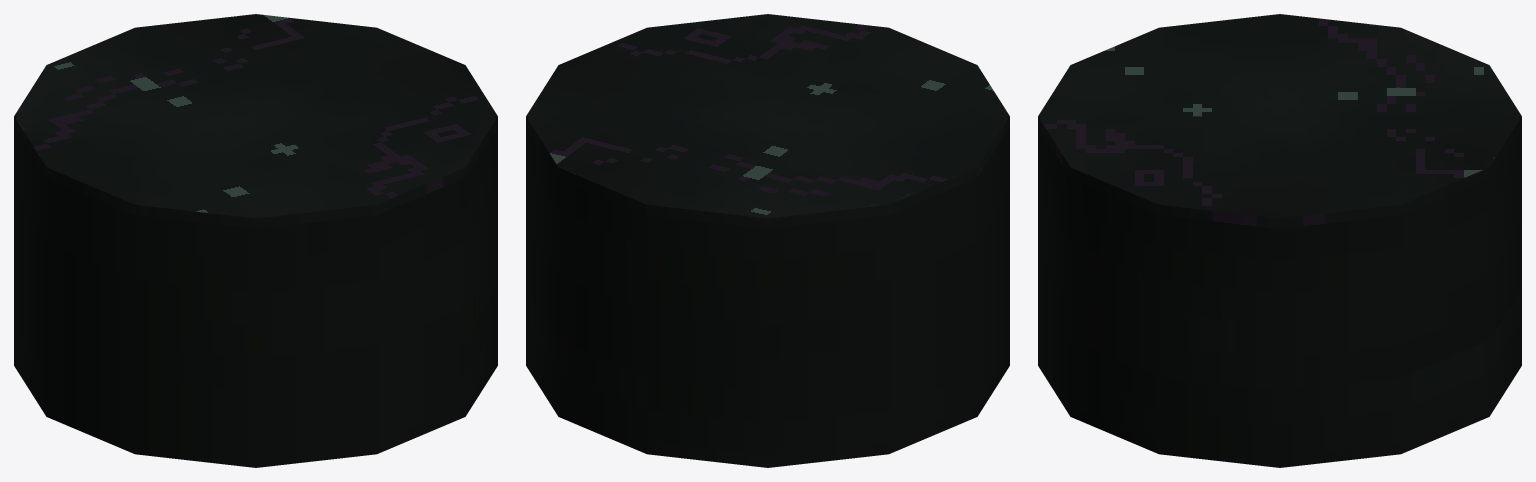
The model's file is HB_Liquid_Tumbler_Med.glb.
3 views of the same model, side by side, from view 1: azimuth 30°, elevation 25°; view 2: azimuth 150°, elevation 25°; view 3: azimuth 270°, elevation 25° (orthographic).
Visible parts, largest first — view 1: HB_Liquid_Tumbler_Med; view 2: HB_Liquid_Tumbler_Med; view 3: HB_Liquid_Tumbler_Med.
Part boxes in pixels (x1,y1,x2,y2): HB_Liquid_Tumbler_Med: (14, 14, 497, 467); HB_Liquid_Tumbler_Med: (526, 14, 1009, 467); HB_Liquid_Tumbler_Med: (1038, 14, 1521, 467).
Size of the model in its own units: 0.074 by 0.0421 by 0.074.
1 material, 1 textured.
